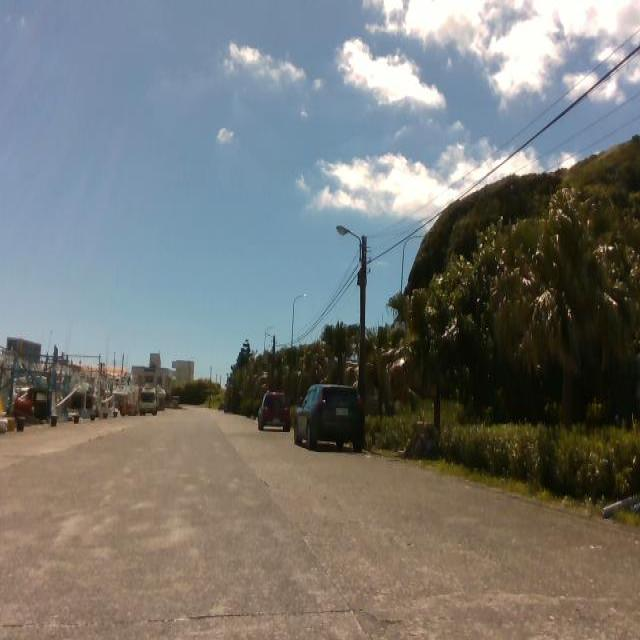pollute: (396, 412, 442, 463), (597, 489, 639, 519)
